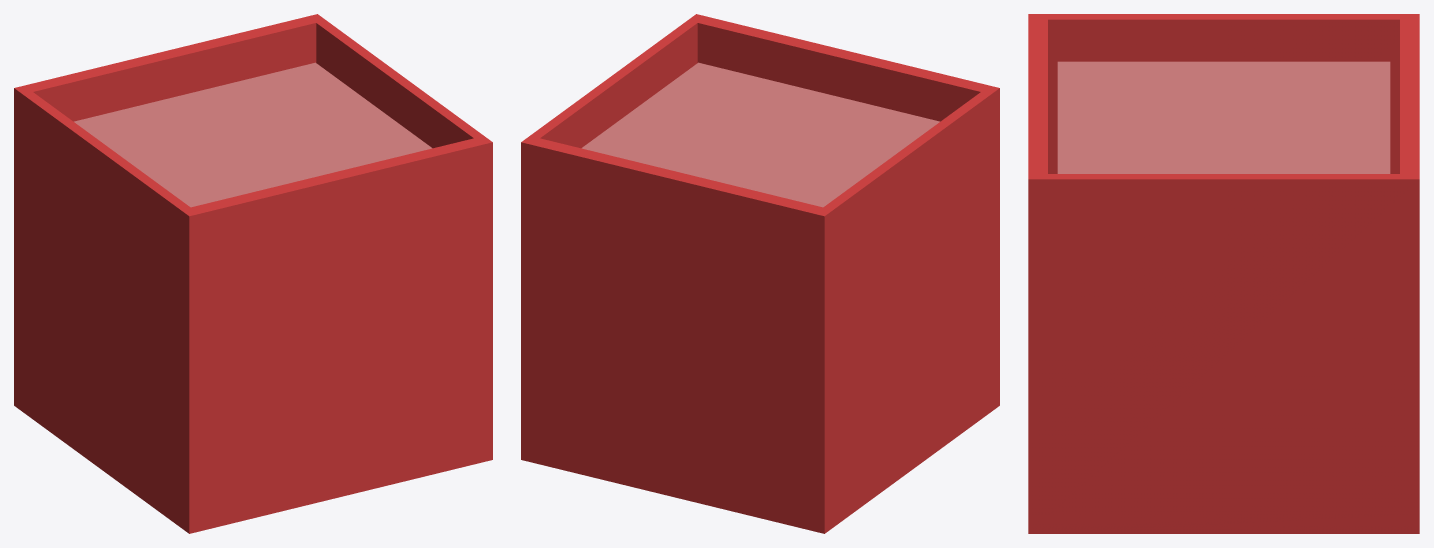
The model's file is carga_batch.glb.
The picture shows the model from 3 angles, left to right: view 1: azimuth 30°, elevation 25°; view 2: azimuth 150°, elevation 25°; view 3: azimuth 270°, elevation 25°; orthographic projection. The views are drawn at different scales.
Parts seen in each view (by area): view 1: carga_batch; view 2: carga_batch; view 3: carga_batch.
Part boxes in pixels (bbox=[...]): carga_batch: bbox=[14, 14, 492, 533]; carga_batch: bbox=[521, 14, 999, 533]; carga_batch: bbox=[1028, 14, 1419, 533].
Size of the model in its own units: 1 by 1 by 1.
